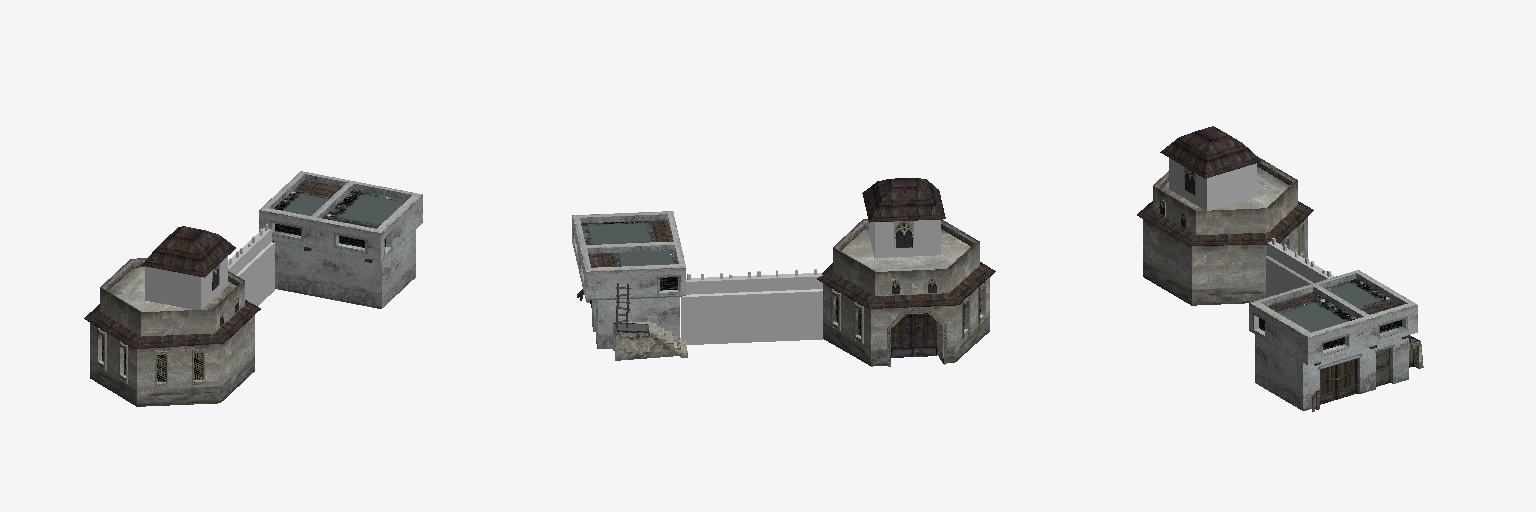
The picture shows the model from 3 angles: view 1: azimuth 30°, elevation 25°; view 2: azimuth 150°, elevation 25°; view 3: azimuth 270°, elevation 25°; orthographic projection.
Size of the model in its own units: 584 by 225 by 400.
20 materials, 19 textured.